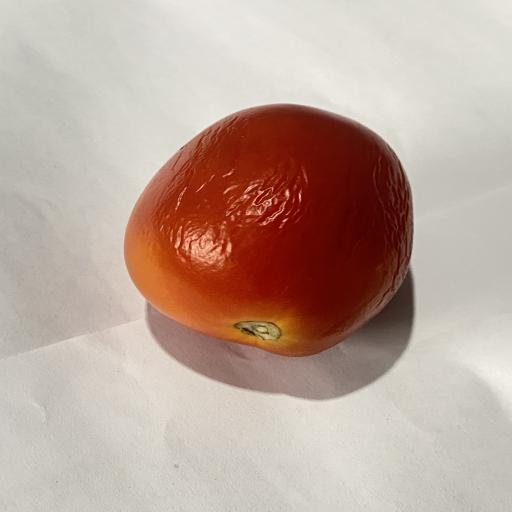spoiled: (125, 105, 413, 356)
